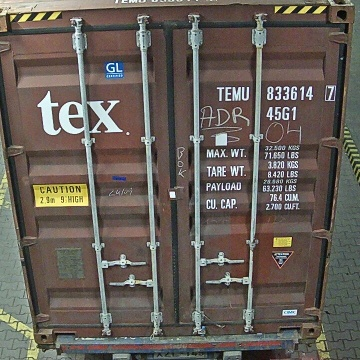serial_id: (216, 85, 335, 100)
